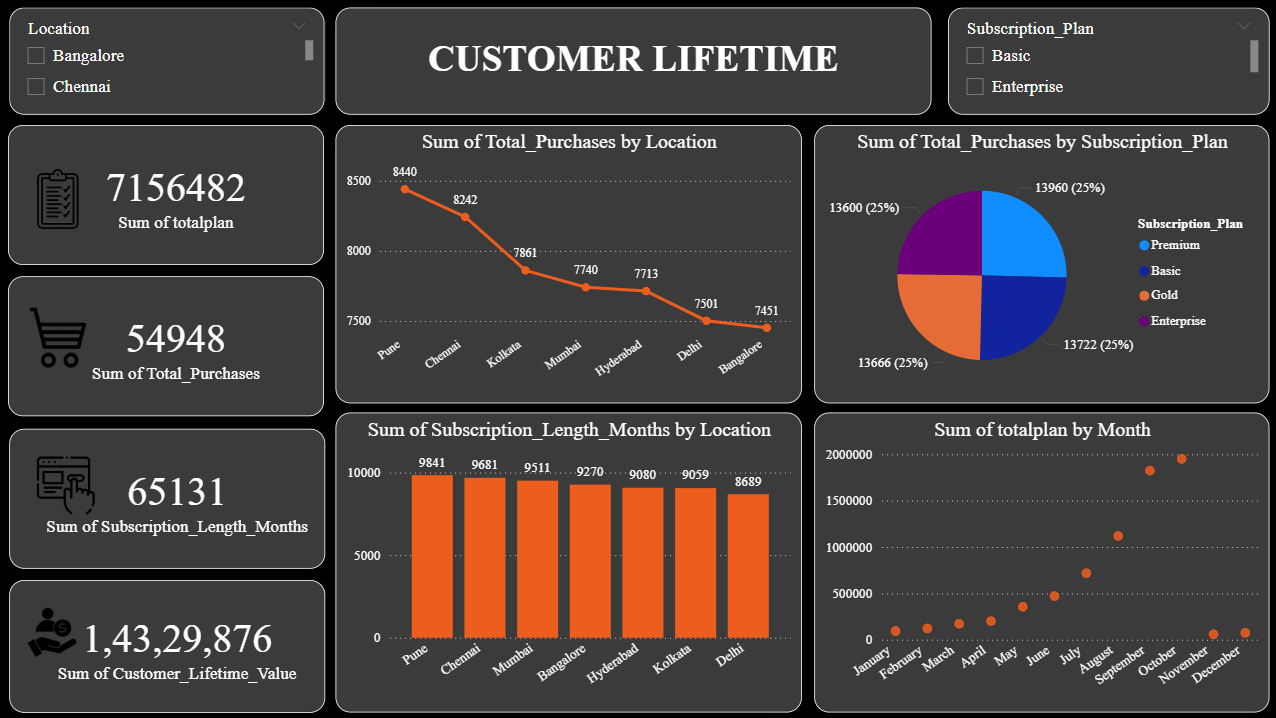

The dashboard page shown, as its layout file describes it:
{"tool":"powerbi","page":{"name":"Customer_Lifetime","canvas":[1280,720],"ordinal":2},"visuals":[{"type":"textbox","box":[337.5,7.5,596.2,107.5],"z":0},{"type":"lineChart","fields":{"Category":["customer_lifetime.Location"],"Y":["Sum(customer_lifetime.Total_Purchases)"]},"box":[337.5,125,466.2,278.8],"z":1000},{"type":"pieChart","fields":{"Category":["customer_lifetime.Subscription_Plan"],"Y":["Sum(customer_lifetime.Total_Purchases)"]},"box":[816.2,125,455,278.8],"z":2000},{"type":"columnChart","fields":{"Category":["customer_lifetime.Location"],"Y":["Sum(customer_lifetime.Subscription_Length_Months)"]},"box":[337.5,412.5,466.2,300],"z":3000},{"type":"scatterChart","fields":{"X":["customer_lifetime.Last_Purchase_Date.Variation.Date Hierarchy.Month"],"Y":["Sum(customer_lifetime.totalplan)"]},"box":[816.2,412.5,455,300],"z":4000},{"type":"card","fields":{"Values":["Sum(customer_lifetime.totalplan)"]},"box":[10,125,316.2,140],"z":5000},{"type":"card","fields":{"Values":["Sum(customer_lifetime.Total_Purchases)"]},"box":[10,276.2,316.2,140],"z":6000},{"type":"card","fields":{"Values":["Sum(customer_lifetime.Customer_Lifetime_Value)"]},"box":[11.2,580,316.2,132.5],"z":7000},{"type":"card","fields":{"Values":["Sum(customer_lifetime.Subscription_Length_Months)"]},"box":[11.2,428.8,316.2,140],"z":8000},{"type":"slicer","fields":{"Values":["customer_lifetime.Location"]},"box":[11.2,7.5,315,107.5],"z":9000},{"type":"slicer","fields":{"Values":["customer_lifetime.Subscription_Plan"]},"box":[950,7.5,321.2,107.5],"z":10000},{"type":"image","box":[25.6,162.8,69.8,73.3],"z":10001},{"type":"image","box":[25.6,301.2,69.8,73.3],"z":10002},{"type":"image","box":[19.8,600,68.6,65.1],"z":10003},{"type":"image","box":[25.6,445.4,84.9,81.4],"z":10004}]}

Visuals, with their boxes in screenshot pixels (x1, y1, x2, y2), scaled from the page's 1280x720 canvas onto the 1276x718 screenshot:
textbox: {"left": 336, "top": 7, "right": 931, "bottom": 115}
lineChart - customer_lifetime.Location x Sum(customer_lifetime.Total_Purchases): {"left": 336, "top": 125, "right": 801, "bottom": 403}
pieChart - customer_lifetime.Subscription_Plan x Sum(customer_lifetime.Total_Purchases): {"left": 814, "top": 125, "right": 1267, "bottom": 403}
columnChart - customer_lifetime.Location x Sum(customer_lifetime.Subscription_Length_Months): {"left": 336, "top": 411, "right": 801, "bottom": 711}
scatterChart - customer_lifetime.Last_Purchase_Date.Variation.Date Hierarchy.Month x Sum(customer_lifetime.totalplan): {"left": 814, "top": 411, "right": 1267, "bottom": 711}
card - Sum(customer_lifetime.totalplan): {"left": 10, "top": 125, "right": 325, "bottom": 264}
card - Sum(customer_lifetime.Total_Purchases): {"left": 10, "top": 275, "right": 325, "bottom": 415}
card - Sum(customer_lifetime.Customer_Lifetime_Value): {"left": 11, "top": 578, "right": 326, "bottom": 711}
card - Sum(customer_lifetime.Subscription_Length_Months): {"left": 11, "top": 428, "right": 326, "bottom": 567}
slicer - customer_lifetime.Location: {"left": 11, "top": 7, "right": 325, "bottom": 115}
slicer - customer_lifetime.Subscription_Plan: {"left": 947, "top": 7, "right": 1267, "bottom": 115}
image: {"left": 26, "top": 162, "right": 95, "bottom": 235}
image: {"left": 26, "top": 300, "right": 95, "bottom": 373}
image: {"left": 20, "top": 598, "right": 88, "bottom": 663}
image: {"left": 26, "top": 444, "right": 110, "bottom": 525}
